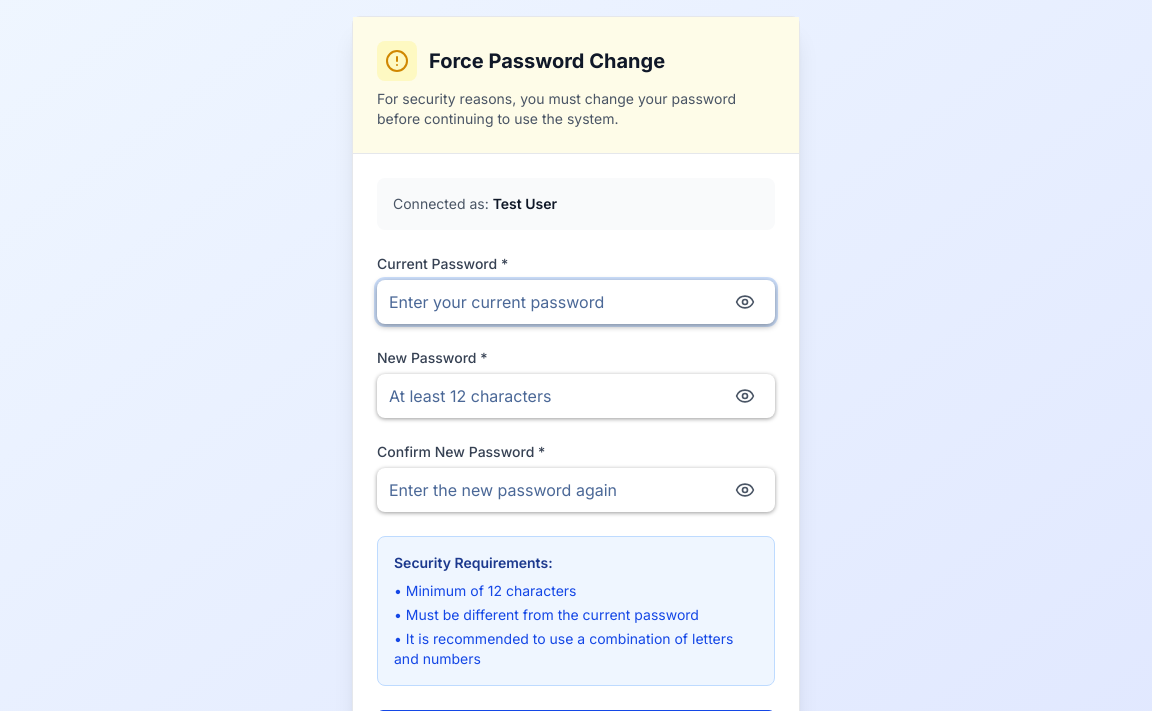
Test: ForcePasswordChangePage › Password change form › should show error when new password is same as current
The width and height of the screenshot is (1152, 711).
In the password field with placeholder "Enter your current password": {"x": 576, "y": 302} 377,280 -> 775,324, type "SamePassword123"
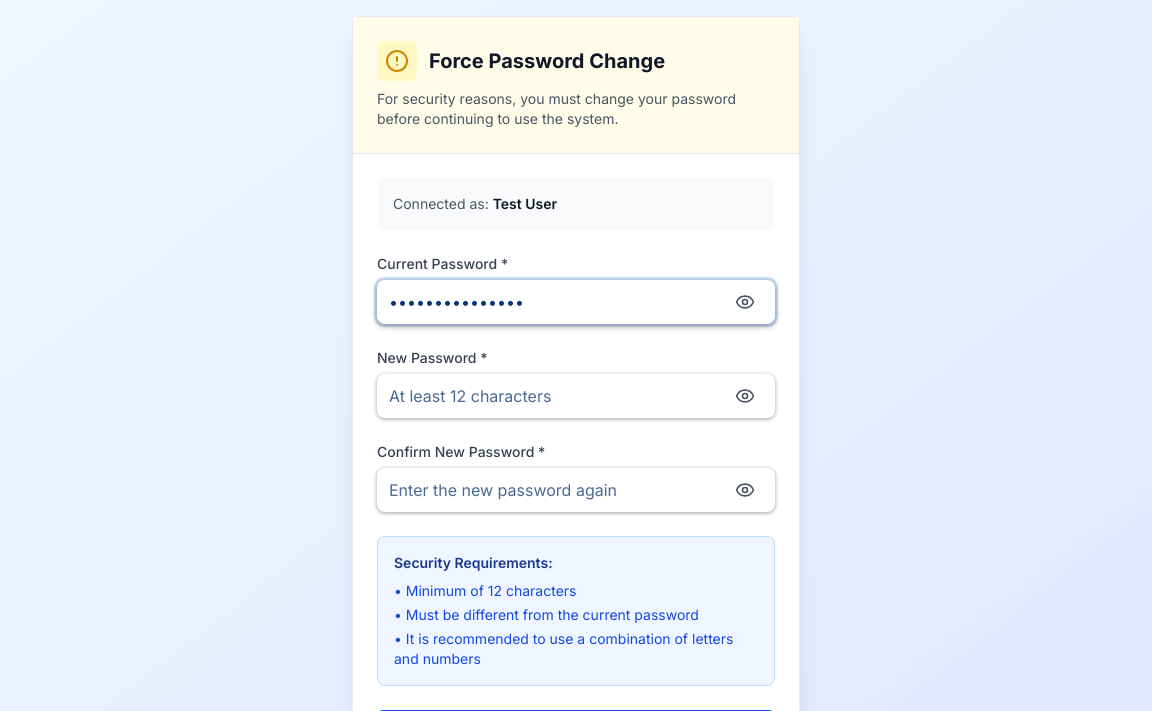
In the password field with placeholder "At least 12 characters": {"x": 576, "y": 396} 377,374 -> 775,418, type "SamePassword123"
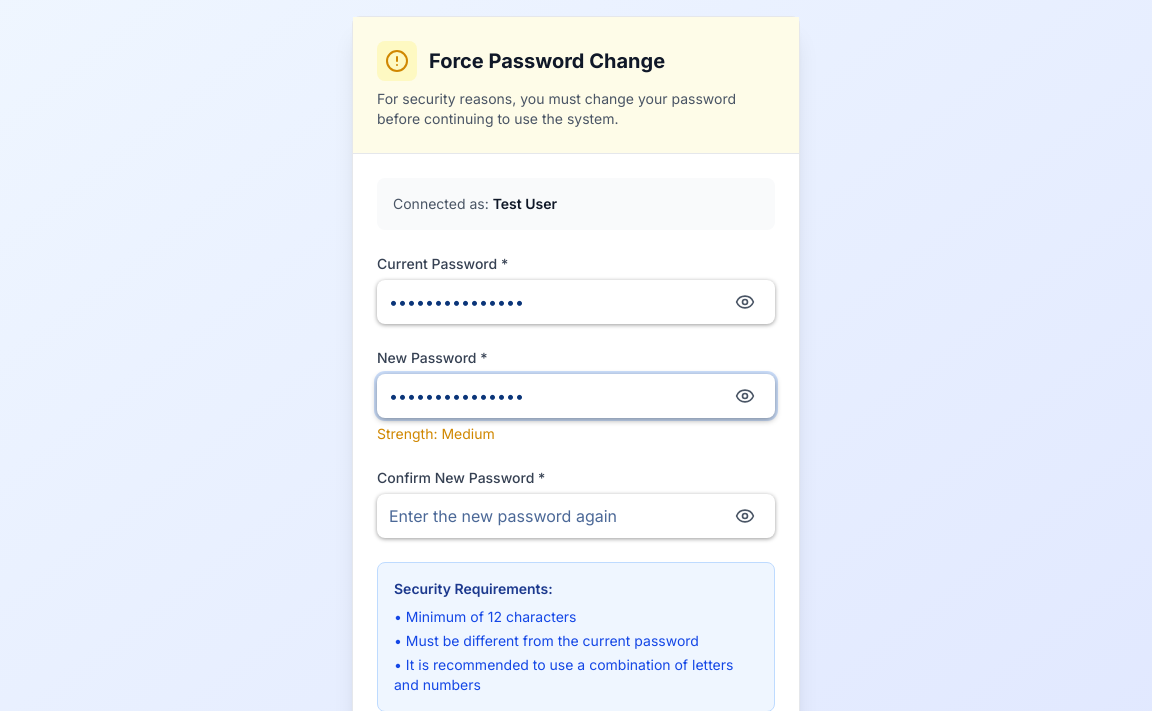
In the password field with placeholder "Enter the new password again": {"x": 576, "y": 516} 377,494 -> 775,538, type "SamePassword123"
(page scrolled)
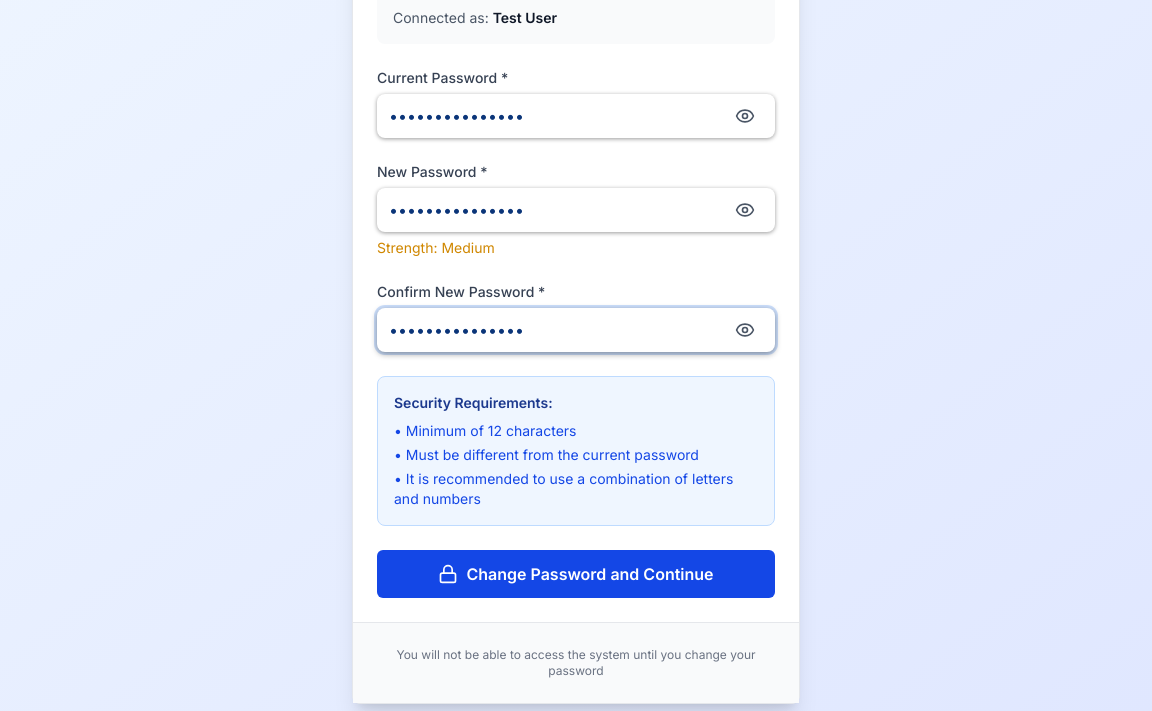
Click the button "Change Password and Continue": {"x": 576, "y": 574} 377,550 -> 775,598
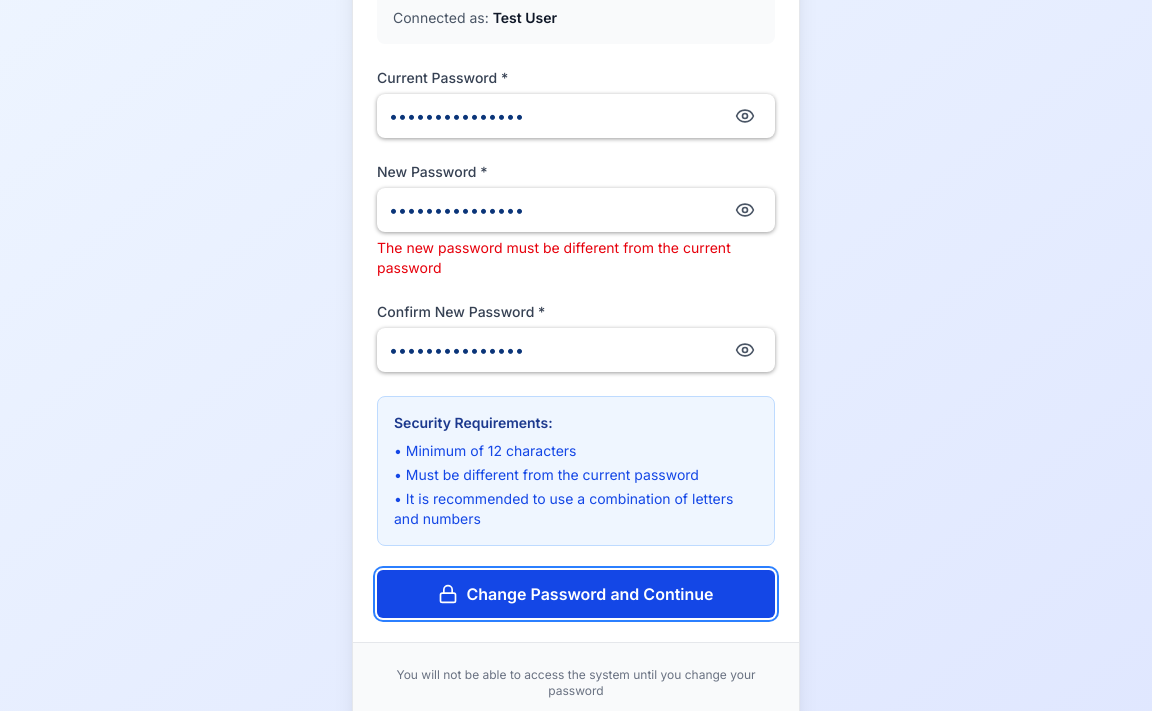
Now the text "The new password must be different from the current password" is shown, box 377,238 -> 775,278
